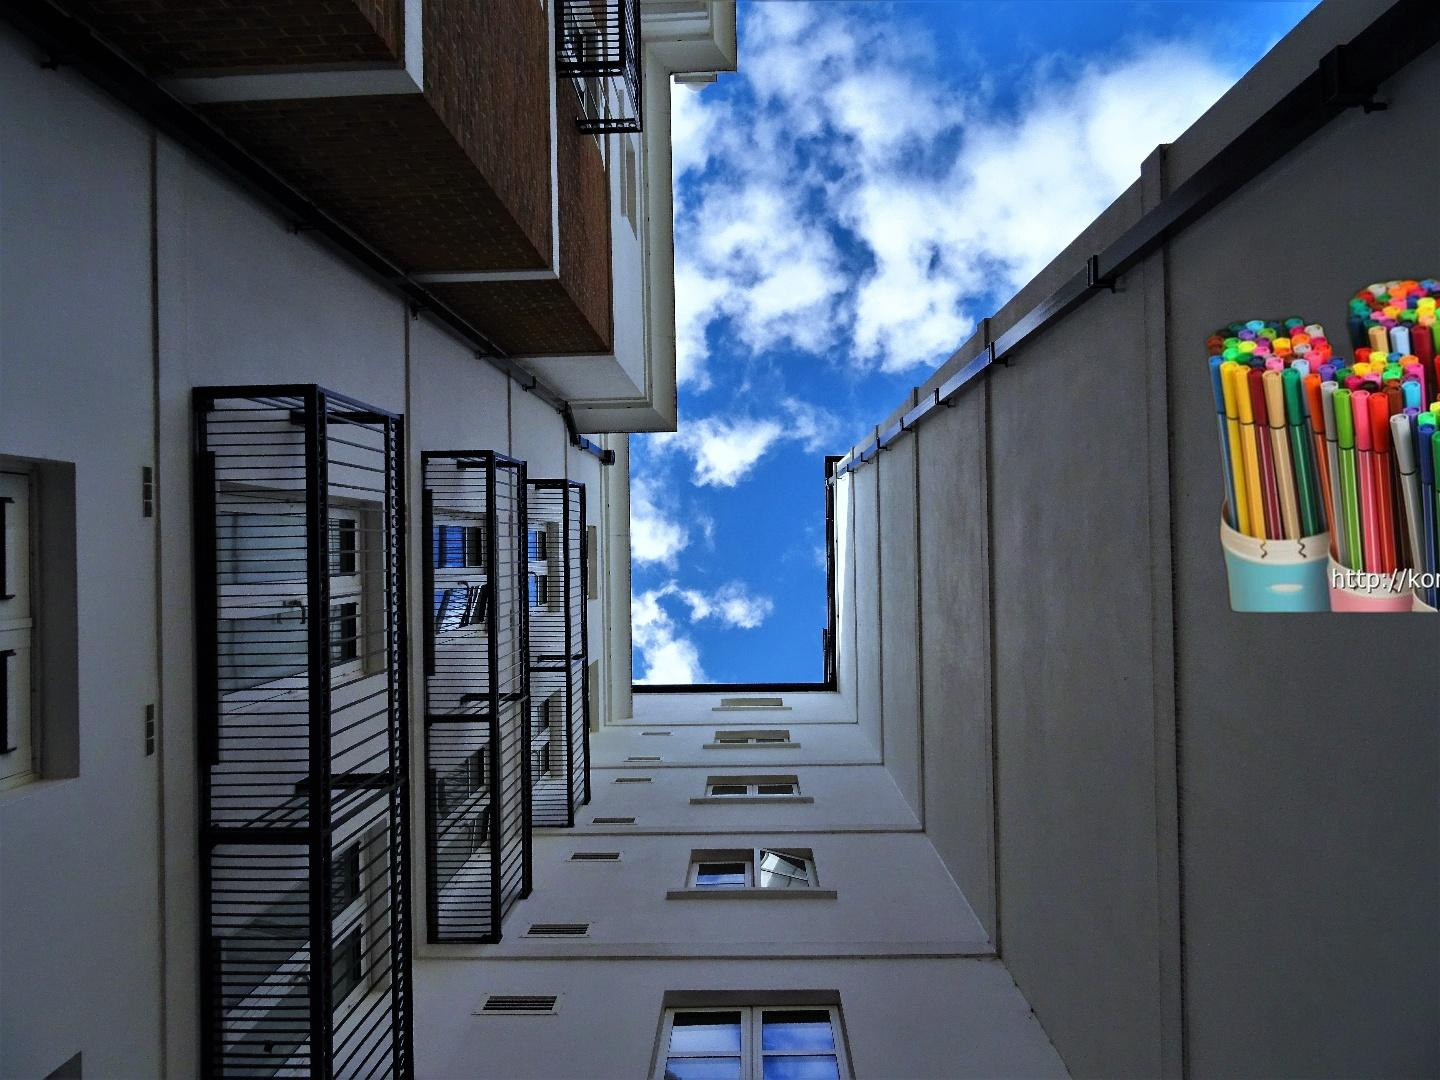metal-cans: (1087, 1078, 1187, 1080)
penholder: (1203, 269, 1440, 618)
